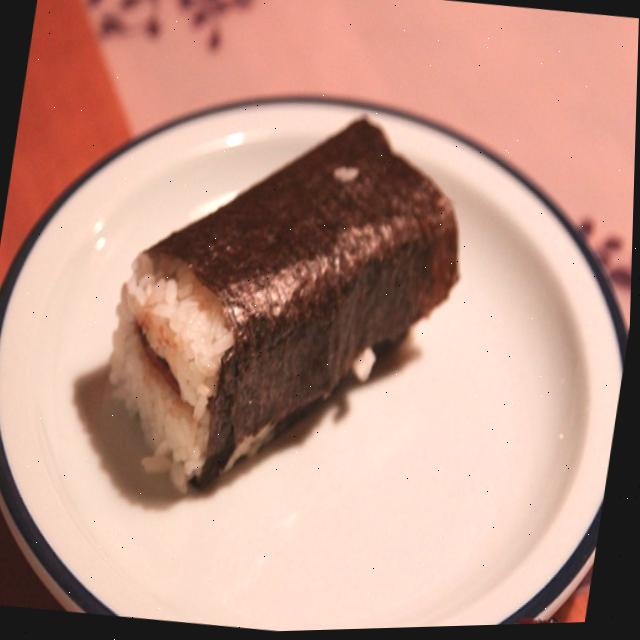寿司卷物: (59, 77, 515, 552)
